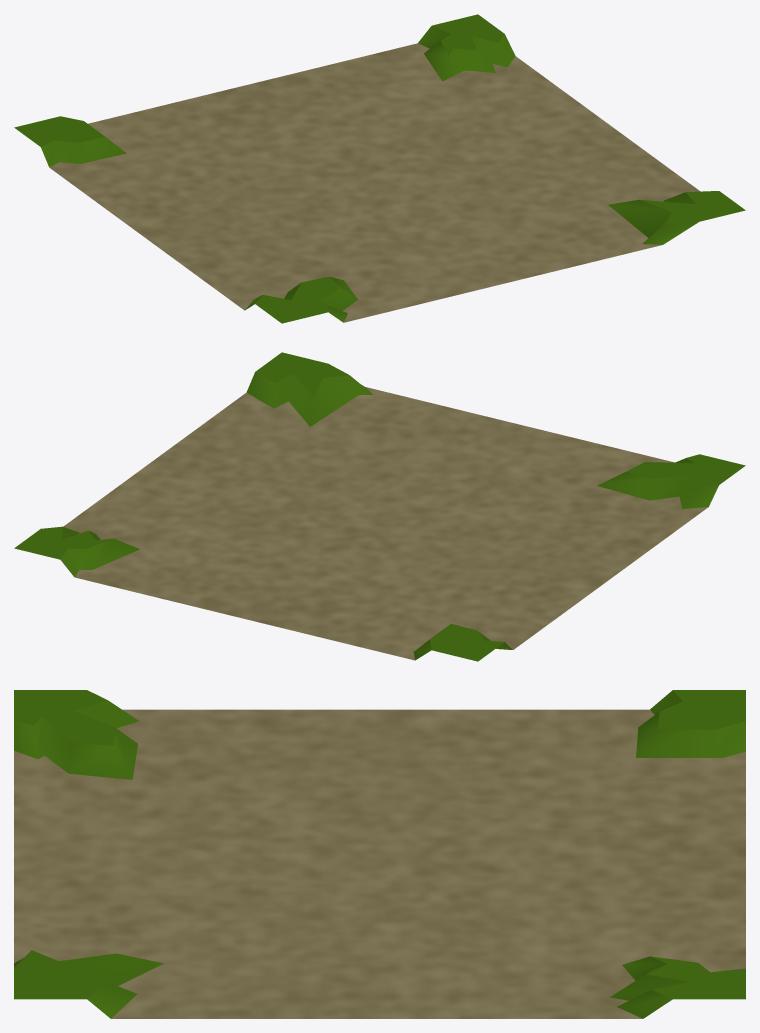
The model's file is tile4.fbx.
3 renders of one model, top to bottom at view 1: azimuth 30°, elevation 25°; view 2: azimuth 150°, elevation 25°; view 3: azimuth 270°, elevation 25°, orthographic. The views are drawn at different scales.
Parts seen in each view (by area): view 1: Plane.003; view 2: Plane.003; view 3: Plane.003.
Boxes of the visible parts, x1=… form: Plane.003: x1=14, y1=14, x2=745, y2=323; Plane.003: x1=14, y1=352, x2=745, y2=661; Plane.003: x1=14, y1=690, x2=745, y2=1018.
Size of the model in its own units: 100 by 2.94 by 100.
